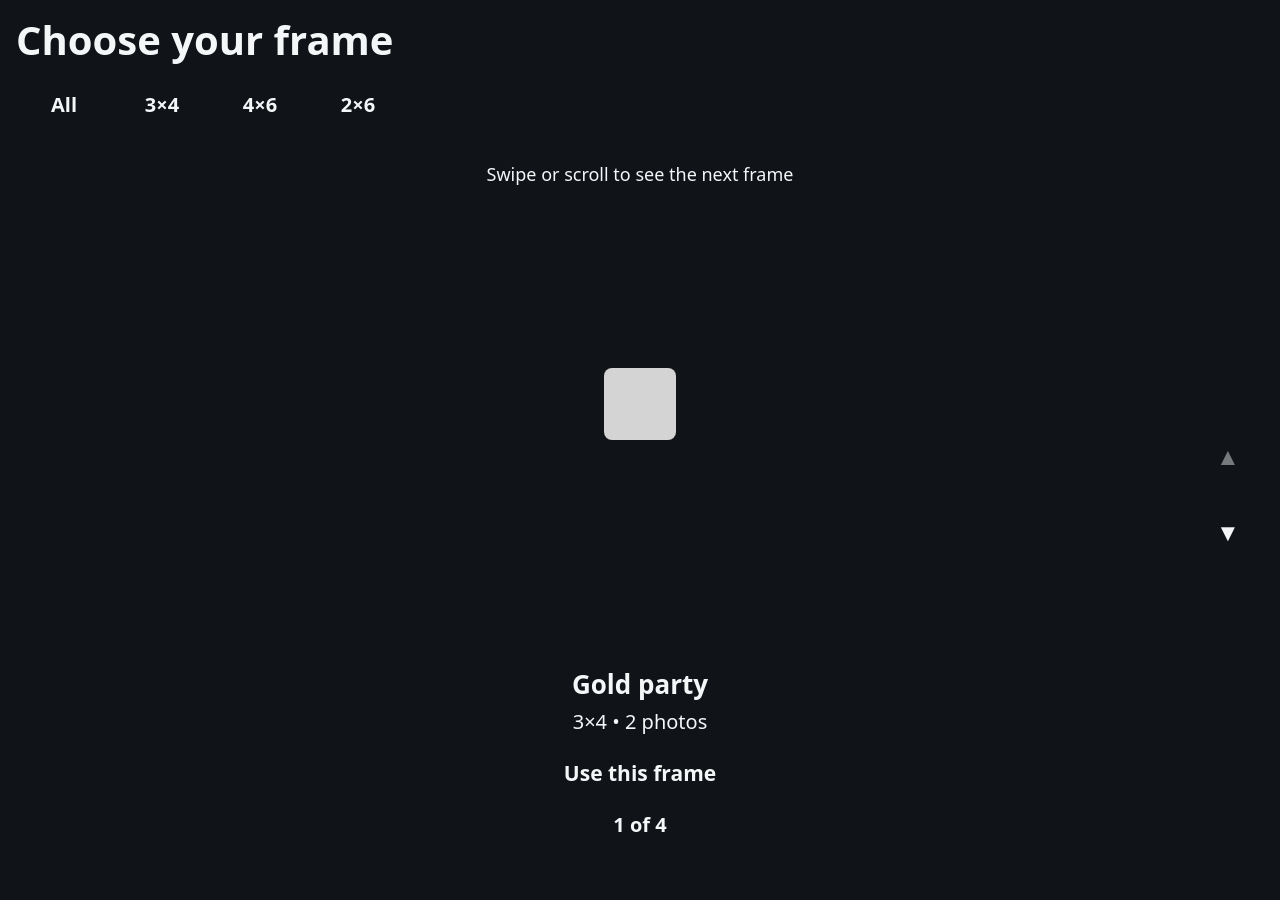
Test: FrameCarousel (participants) › a size filter shows only that size and starts again at its first frame
expect the tabs read "All", "3×4", "4×6", "2×6", in this order: met, box [20,76,108,132]; [118,76,206,132]; [216,76,304,132]; [314,76,402,132]
Press End in the list named "Choose your frame", box [530,368,750,838]
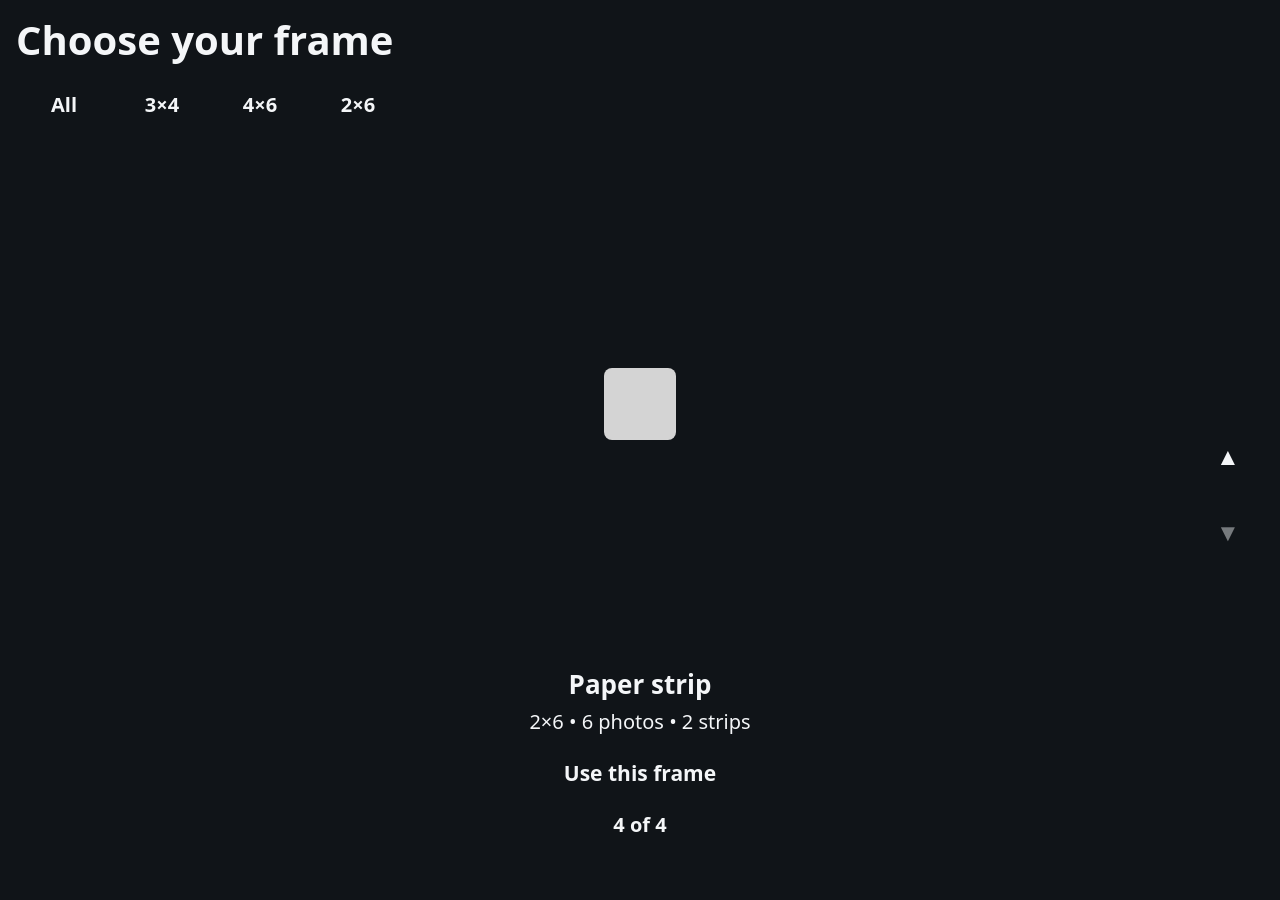
expect the text "4 of 4" is shown: met, box [613,811,667,838]
Click the tab "2×6". click: x=358, y=104
box: [314,76,402,132]
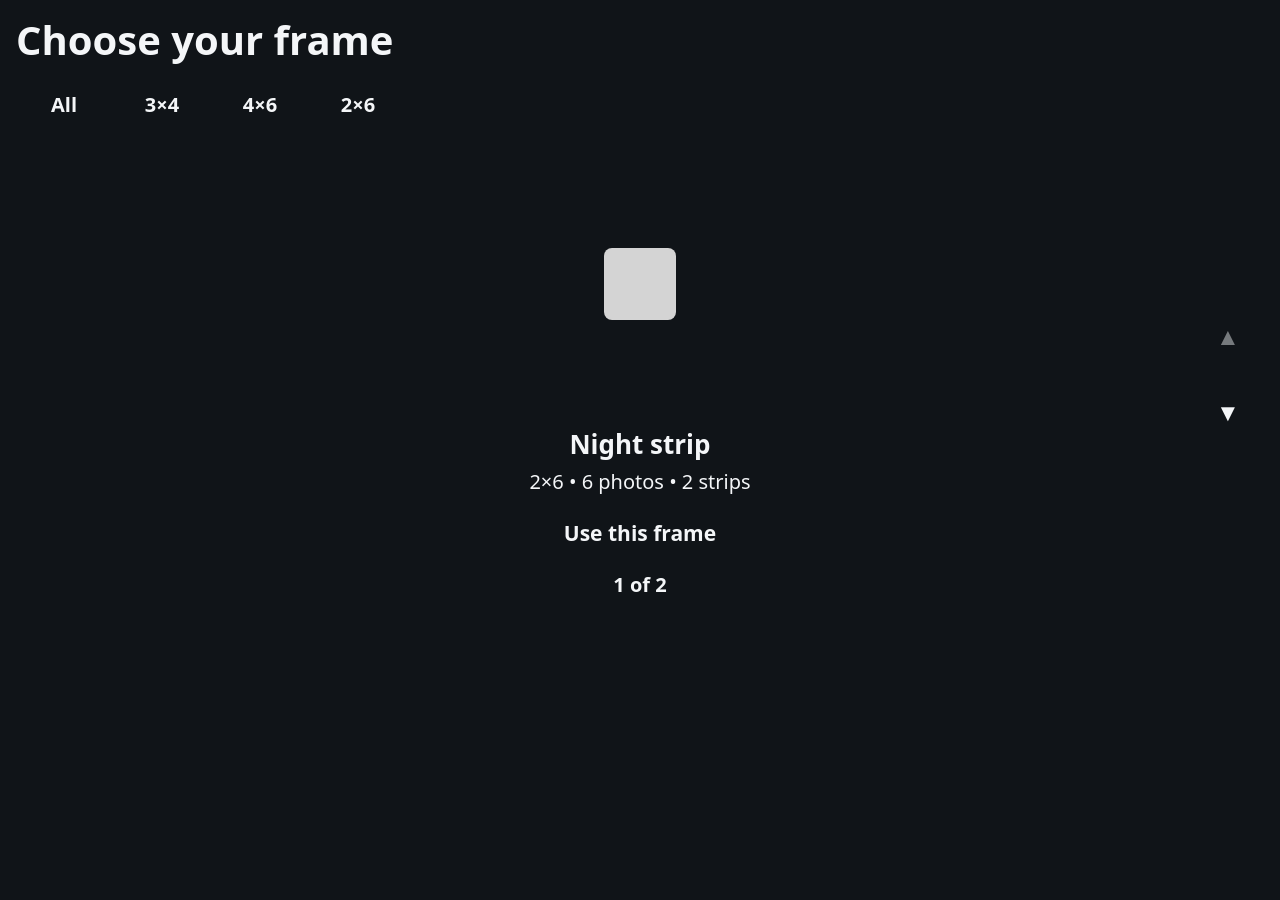
expect the text "Gold party" is not shown: met
expect the text "1 of 2" is shown: met, box [613,571,667,598]
expect the text "Night strip" is shown: met, box [570,426,711,462]
